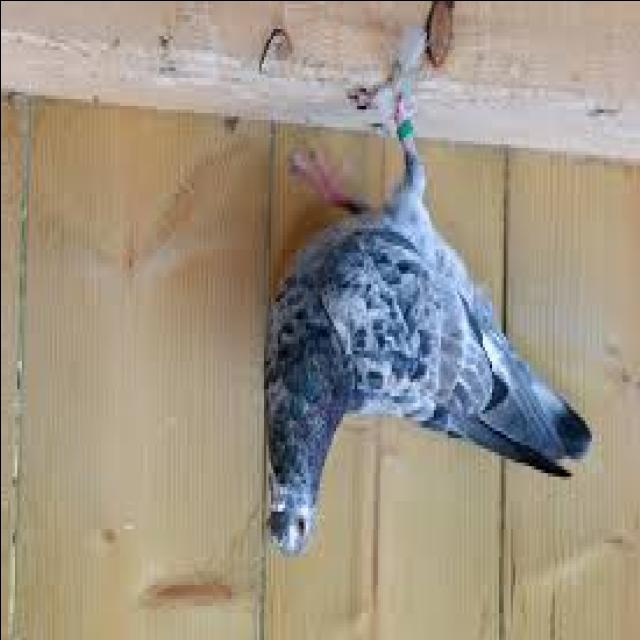pigeon: (232, 62, 608, 596)
